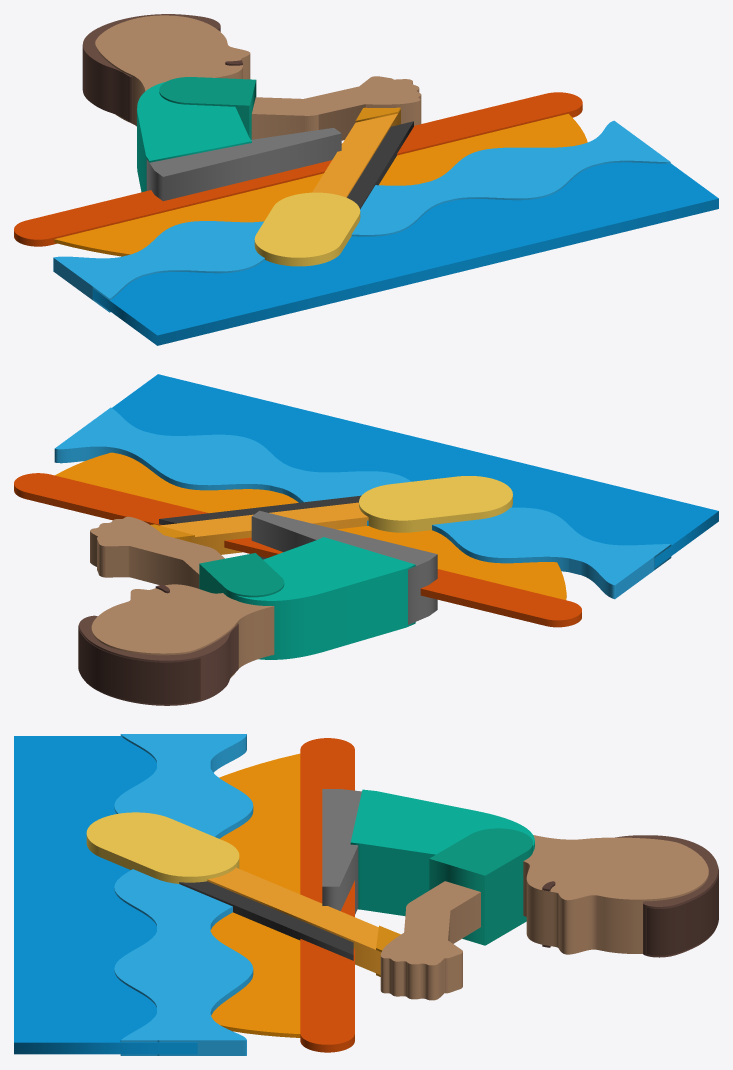
Rendered from emoji_u1f6a3_1f3fd_200d_2642.glb.
3 views of the same model, one above another, from view 1: azimuth 30°, elevation 25°; view 2: azimuth 150°, elevation 25°; view 3: azimuth 270°, elevation 25° (orthographic). The views are drawn at different scales.
Parts seen in each view (by area): view 1: emoji_u1f6a3_1f3fd_200d_2642; view 2: emoji_u1f6a3_1f3fd_200d_2642; view 3: emoji_u1f6a3_1f3fd_200d_2642.
Boxes of the visible parts, left/top/right/bottom form: emoji_u1f6a3_1f3fd_200d_2642: left=14, top=14, right=718, bottom=345; emoji_u1f6a3_1f3fd_200d_2642: left=14, top=374, right=718, bottom=705; emoji_u1f6a3_1f3fd_200d_2642: left=14, top=734, right=718, bottom=1055.
Bounding box in the file's own units: 0.0338 × 0.0036 × 0.0329.
